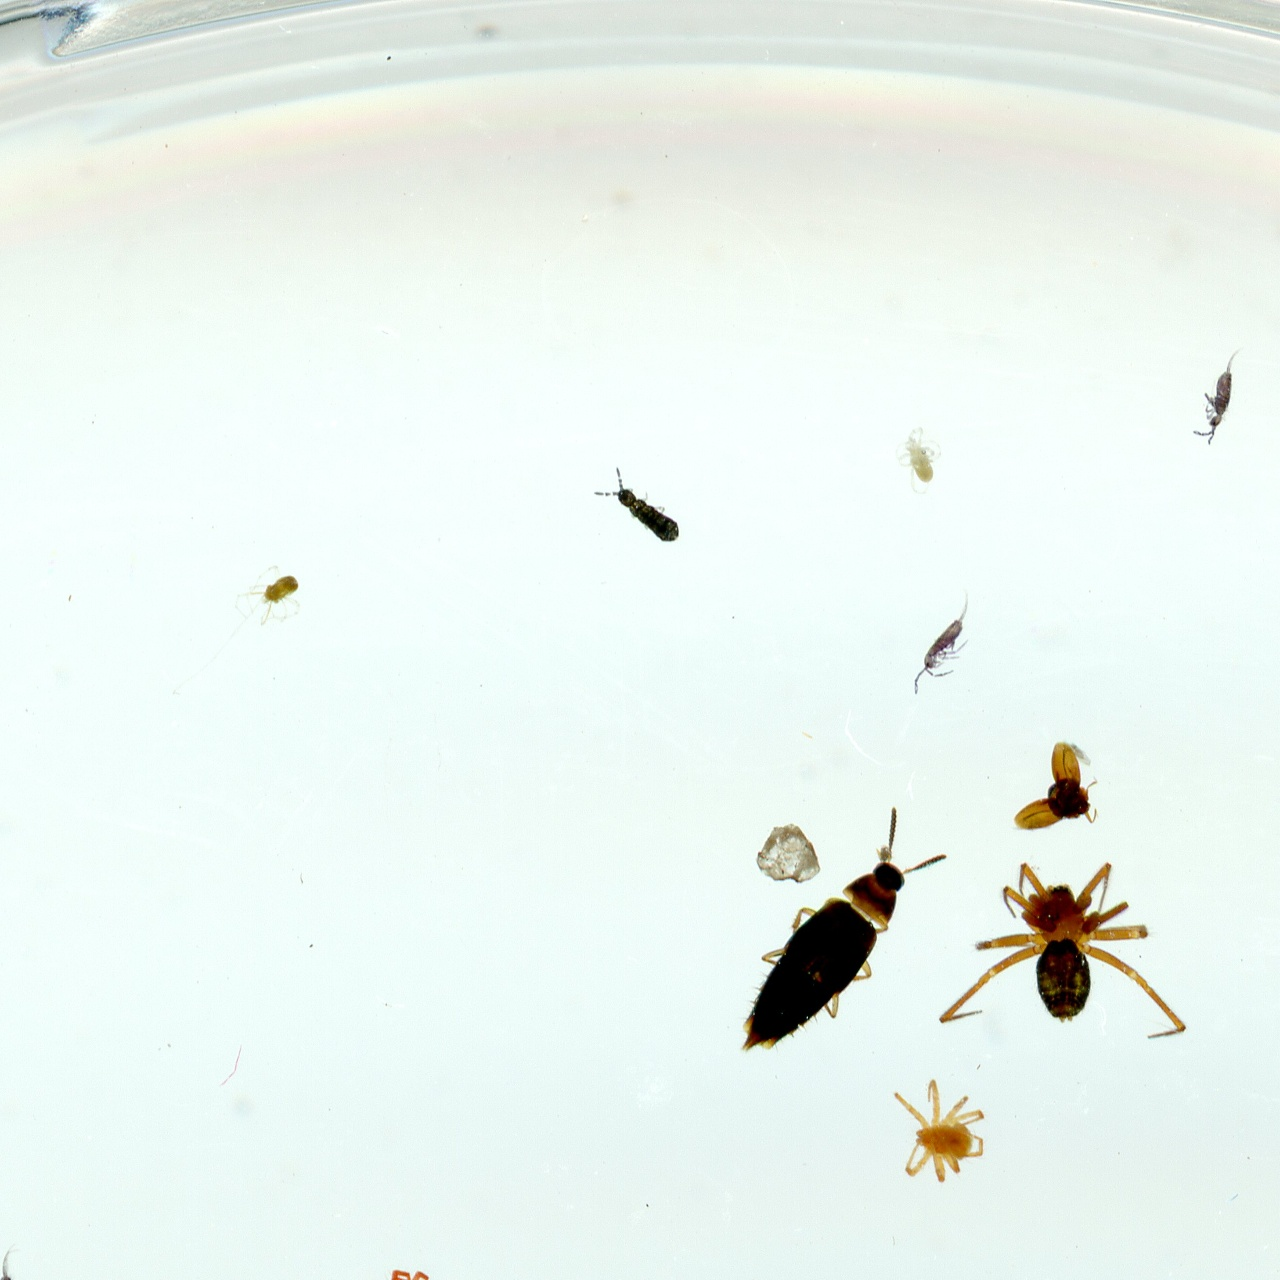arthropod: (731, 802, 951, 1058), (935, 858, 1191, 1042), (587, 456, 696, 562), (890, 1077, 986, 1182), (1010, 739, 1099, 833), (911, 589, 972, 696), (1191, 345, 1243, 446), (229, 563, 305, 628), (895, 422, 944, 495), (357, 1262, 455, 1280), (0, 1240, 22, 1280)
